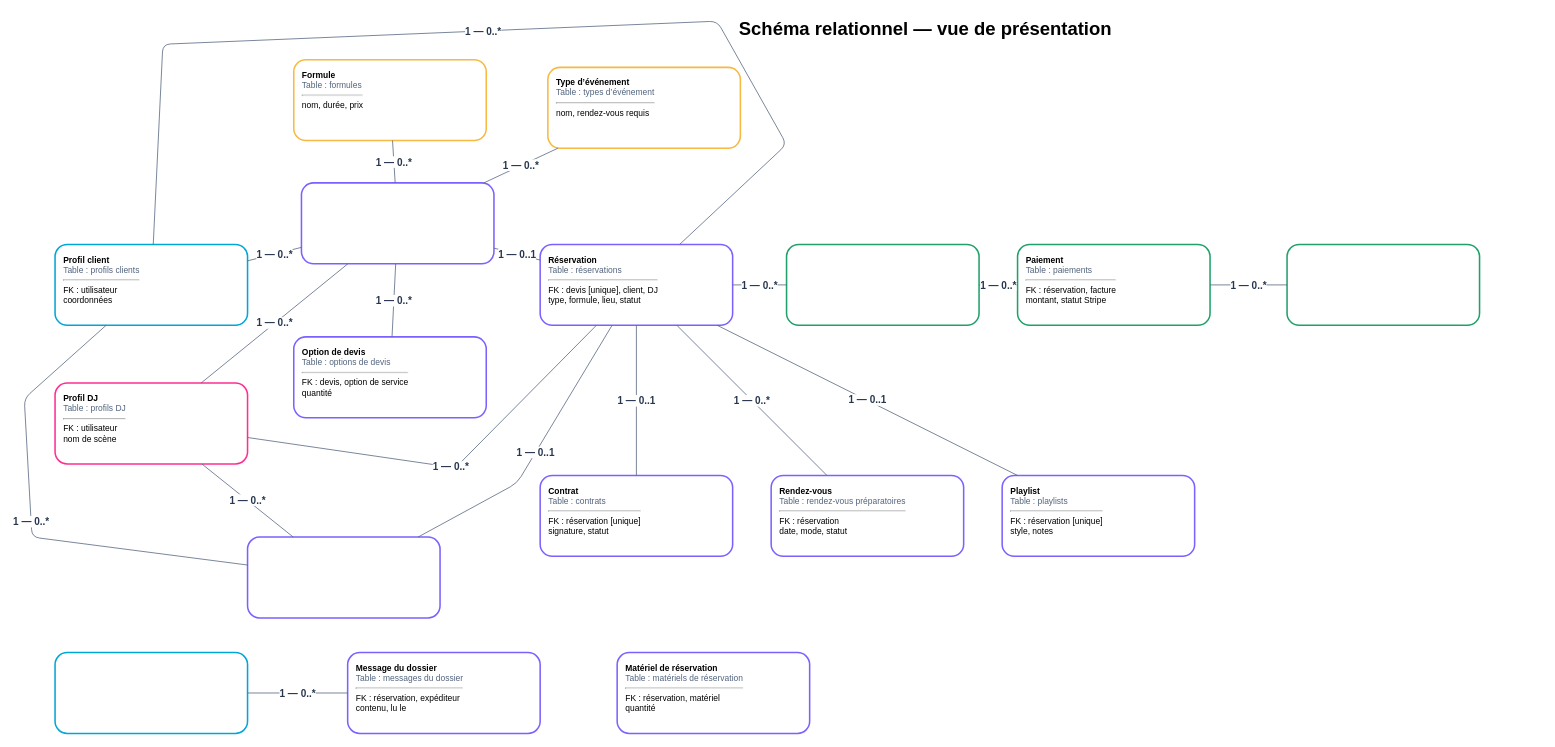
The diagram is 1555 pixels wide and 747 high, and some of its shapes have lost their labels. The centre of each missing label's shape, as x and y in pixels:
Avis client Table : avis clients FK : réservation, client, DJ note, statut: pixel 343 577
Devis Table : devis FK : client, DJ, formule, type, lieu montant, statut: pixel 397 223
Facture Table : factures FK : réservation numéro, montant, statut: pixel 882 284
Remboursement Table : remboursements FK : paiement montant, motif, statut: pixel 1383 284
Utilisateur Table : utilisateurs id, identifiant, e-mail: pixel 151 692
